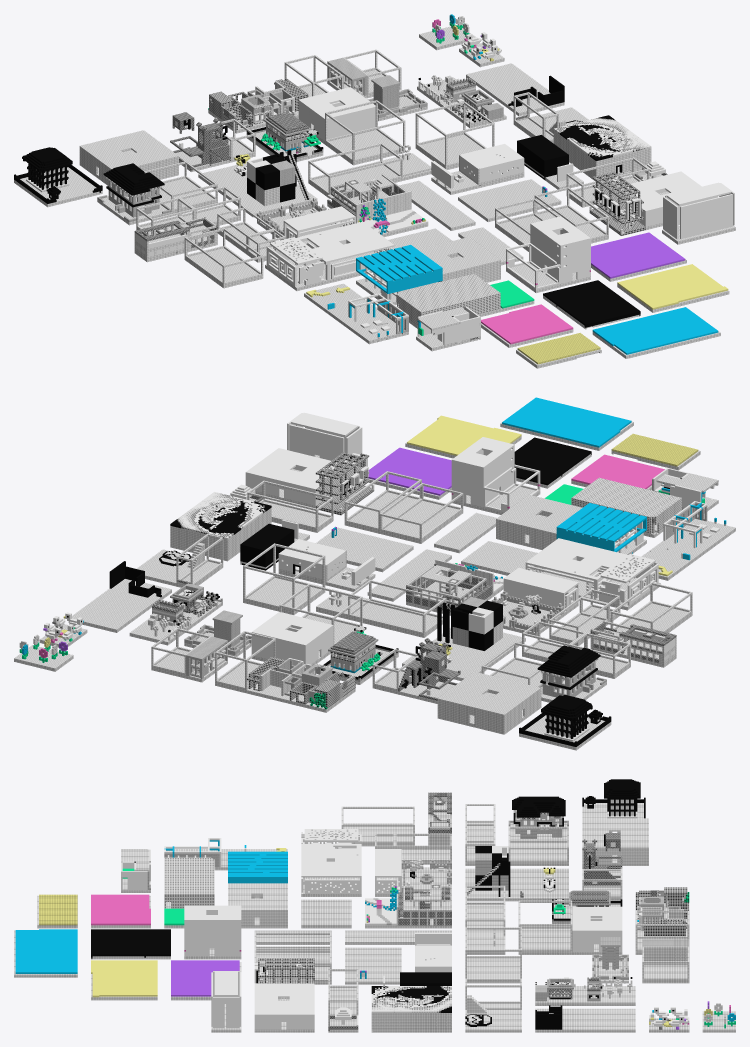
File: WestEnd-v2.glb
The picture shows the model from 3 angles, top to bottom: view 1: azimuth 30°, elevation 25°; view 2: azimuth 150°, elevation 25°; view 3: azimuth 270°, elevation 25°; orthographic projection. The views are drawn at different scales.
Visible parts, largest first — view 1: solid-voxels_78.008; view 2: solid-voxels_78.008; view 3: solid-voxels_78.008.
Boxes of the visible parts, <box> form: solid-voxels_78.008: <box>14,14,735,368</box>; solid-voxels_78.008: <box>14,397,735,750</box>; solid-voxels_78.008: <box>14,779,735,1032</box>.
Size of the model in its own units: 161 by 13 by 216.
Materials: 1 (1 with a texture image).
